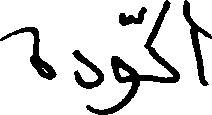X: (0, 22, 54, 84), (145, 0, 178, 87), (111, 8, 138, 114), (72, 45, 103, 114), (190, 11, 211, 90)
